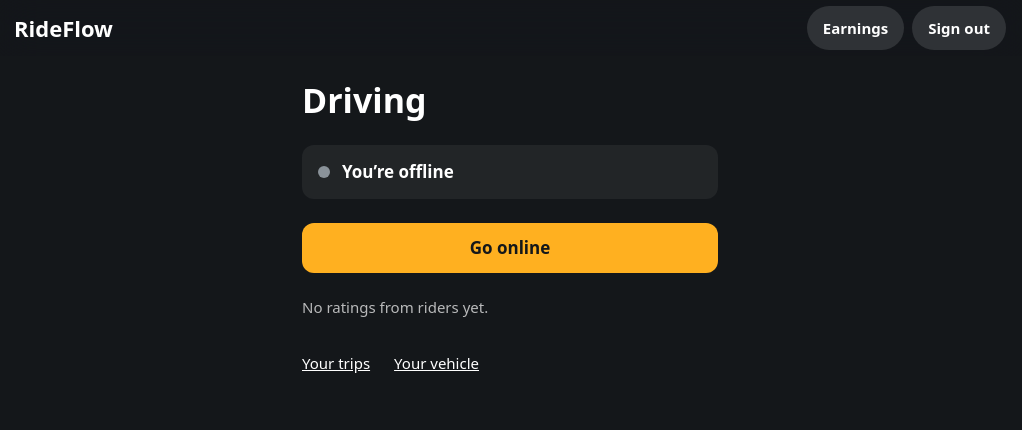
Test case: the driver’s earnings › are a tap away from the driving screen
Click the link "Earnings". click: [855, 28]
box: [807,6,904,50]
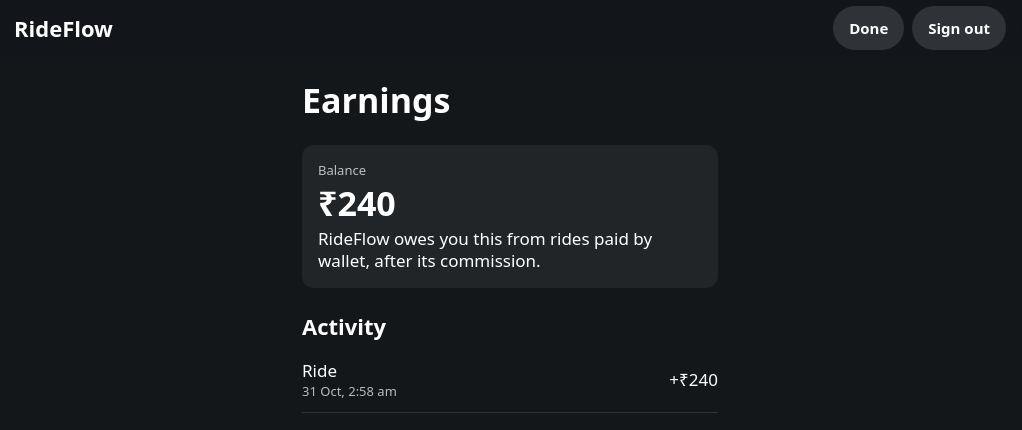
Expected: the element "Balance" shows "₹240", [318,180,396,226]
Expected: the element "Balance" shows "RideFlow owes you this", [318,227,652,272]
Expected: the list item reads "Ride 31 Oct, 2:58 am +₹240", [302,348,718,413]
